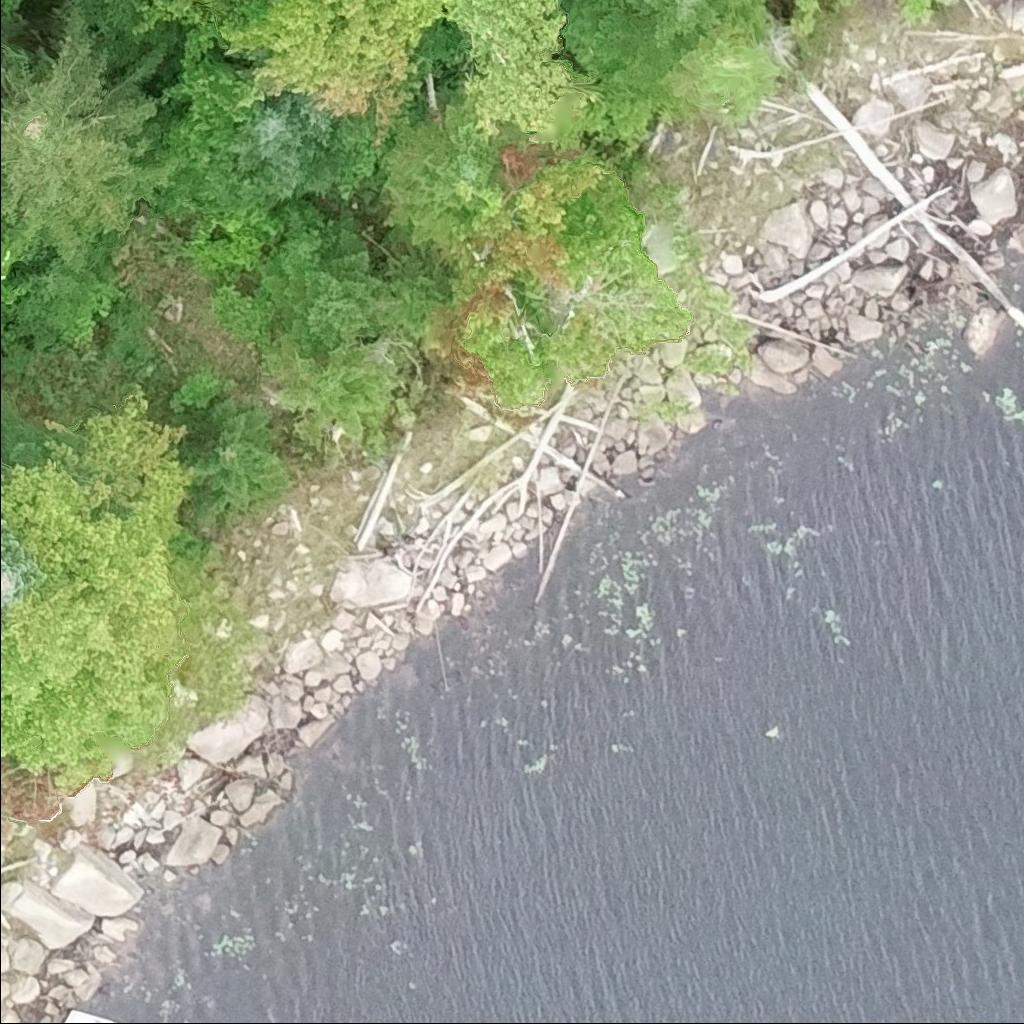crown: (0, 388, 193, 793), (0, 4, 187, 271), (212, 0, 446, 144), (258, 209, 401, 352), (373, 95, 498, 249), (439, 0, 574, 137), (564, 0, 758, 87), (159, 26, 268, 166), (180, 396, 295, 527), (656, 14, 789, 115), (222, 95, 329, 214), (0, 524, 51, 620), (274, 199, 330, 261), (0, 221, 21, 302), (202, 0, 228, 11)
